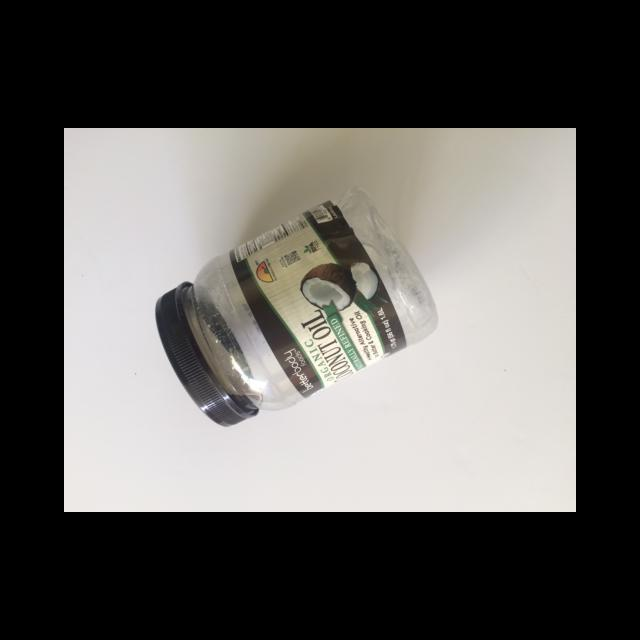plastic: (154, 185, 438, 425), (154, 281, 257, 427)
